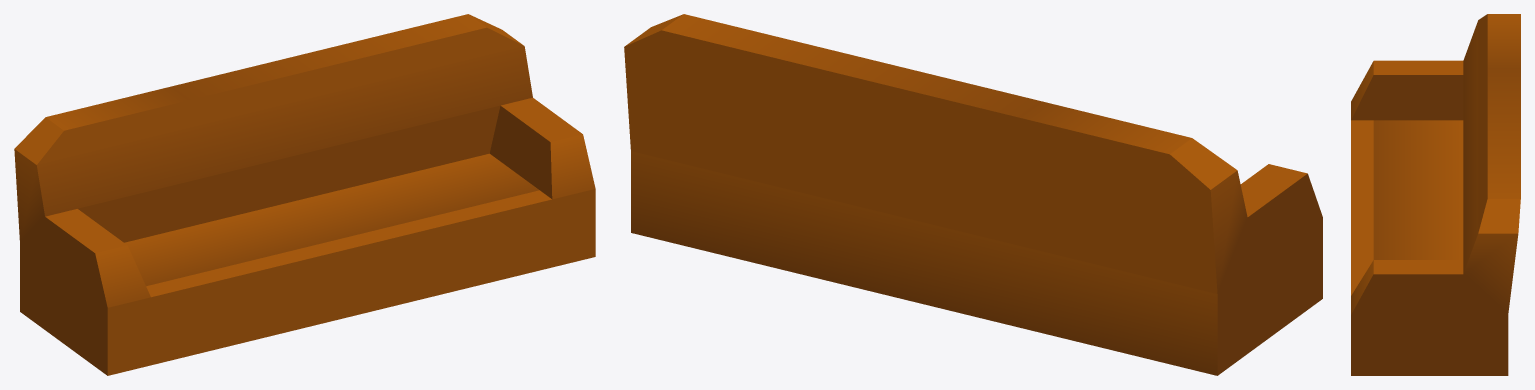
Rendered from hgss-piece-259-canape.glb.
3 views of the same model, side by side, from view 1: azimuth 30°, elevation 25°; view 2: azimuth 150°, elevation 25°; view 3: azimuth 270°, elevation 25° (orthographic). The views are drawn at different scales.
Size of the model in its own units: 2.81 by 1 by 0.9453.
1 material, 1 textured.
